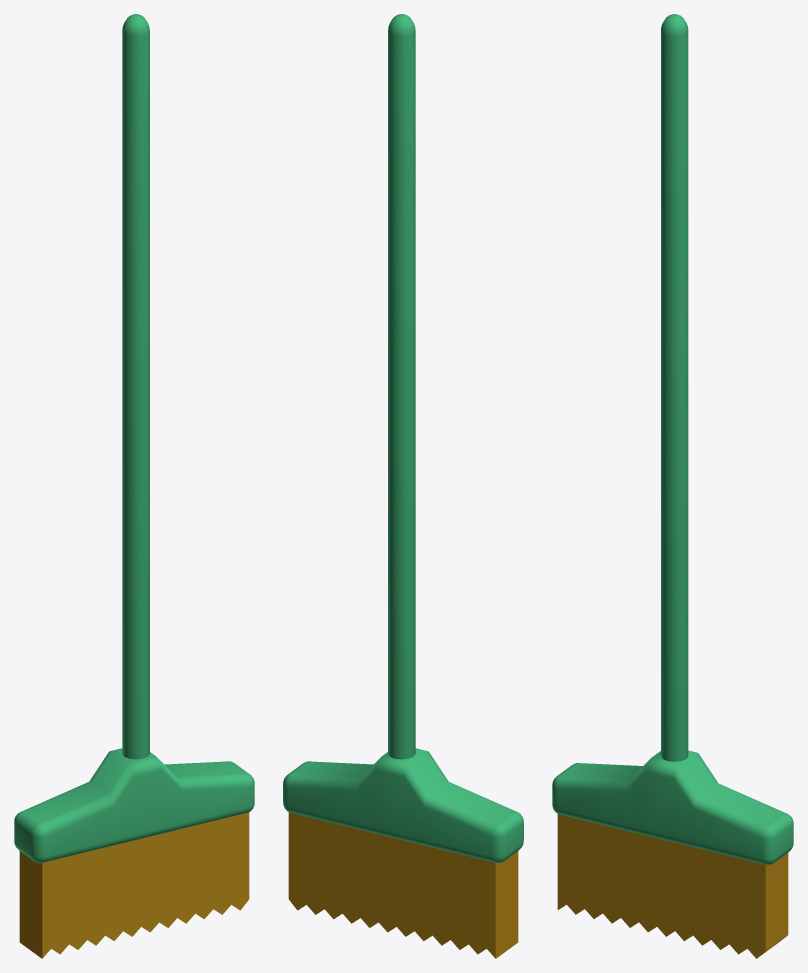
Rendered from Broom_515.gltf.
3 views of the same model, side by side, from view 1: azimuth 30°, elevation 25°; view 2: azimuth 150°, elevation 25°; view 3: azimuth 330°, elevation 25° (orthographic).
Parts seen in each view (by area): view 1: node-0; view 2: node-0; view 3: node-0.
Boxes of the visible parts, x1,y1,x2,y2 form: node-0: (14, 14, 254, 958); node-0: (283, 14, 523, 958); node-0: (552, 14, 793, 958).
Size of the model in its own units: 17.7 by 69.26 by 3.64.
